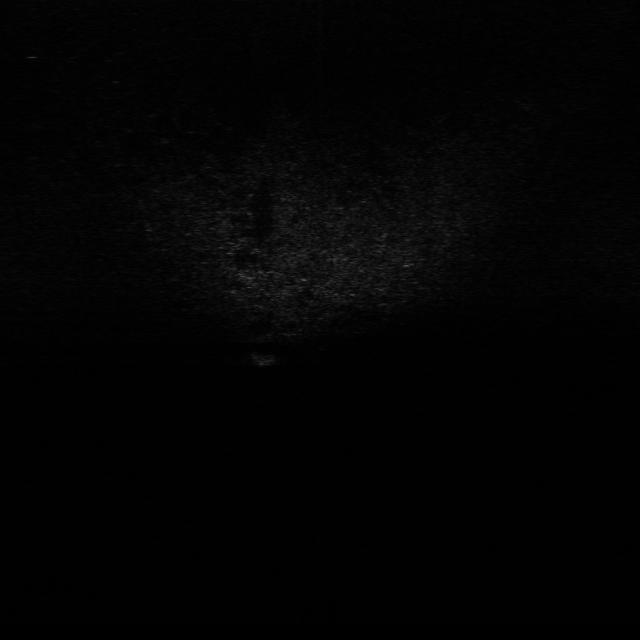cube: (247, 346, 279, 370)
